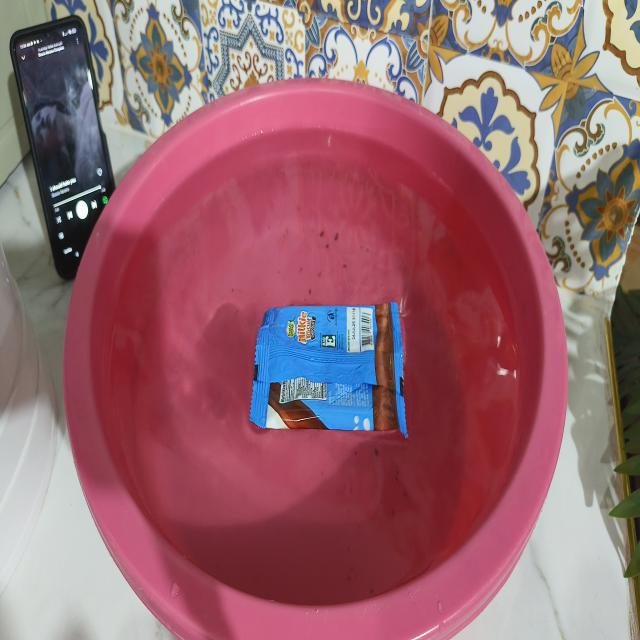Plastic Wrapper: (250, 302, 408, 437)
